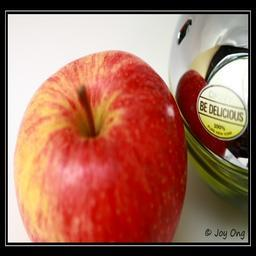apple: (14, 50, 185, 242)
